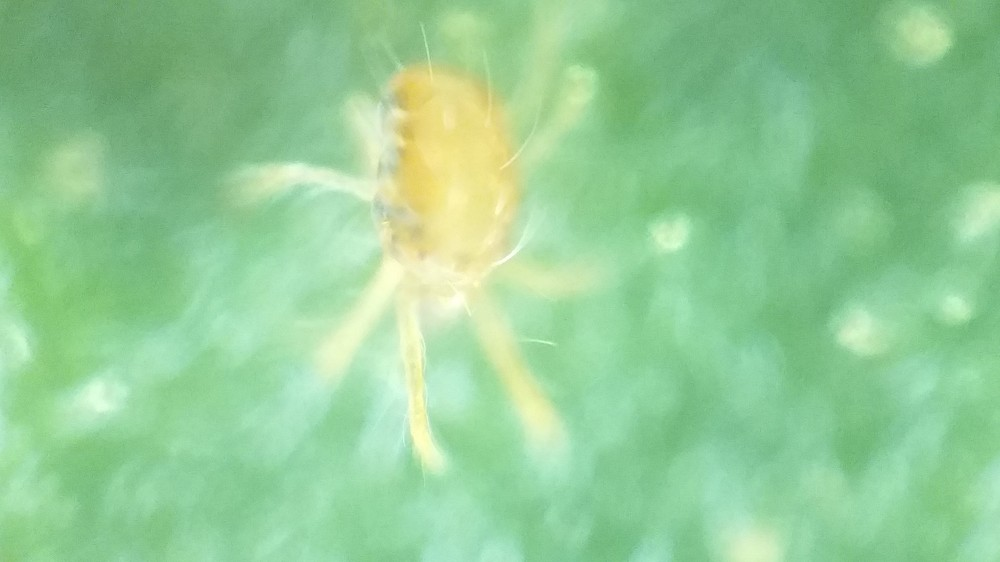Aracnido Rojo: (240, 33, 637, 468)
